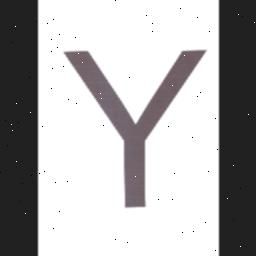y: (52, 42, 218, 218)
